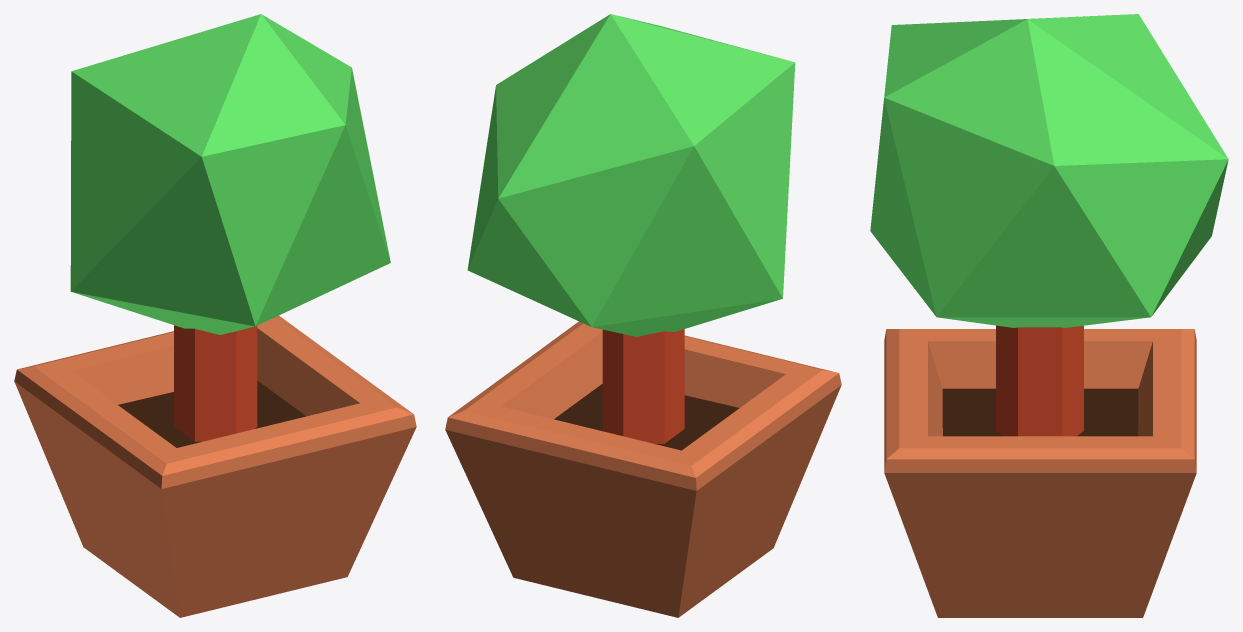
The model's file is Flower_Pot.fbx.
The picture shows the model from 3 angles, left to right: view 1: azimuth 30°, elevation 25°; view 2: azimuth 150°, elevation 25°; view 3: azimuth 270°, elevation 25°; orthographic projection. The views are drawn at different scales.
Parts seen in each view (by area): view 1: Leaves, Pot, Branch, Mud; view 2: Leaves, Pot, Branch, Mud; view 3: Leaves, Pot, Branch, Mud.
Part boxes in pixels (bbox=[...]): Leaves: bbox=[70, 14, 390, 334]; Pot: bbox=[14, 315, 416, 617]; Branch: bbox=[174, 325, 257, 441]; Mud: bbox=[118, 380, 306, 447]; Leaves: bbox=[467, 14, 795, 336]; Pot: bbox=[445, 321, 841, 617]; Branch: bbox=[602, 329, 684, 443]; Mud: bbox=[554, 384, 739, 450]; Leaves: bbox=[870, 14, 1228, 327]; Pot: bbox=[884, 329, 1196, 617]; Branch: bbox=[996, 325, 1083, 436]; Mud: bbox=[942, 388, 1138, 436].
Bounding box in the file's own units: 342 × 620 × 349.
